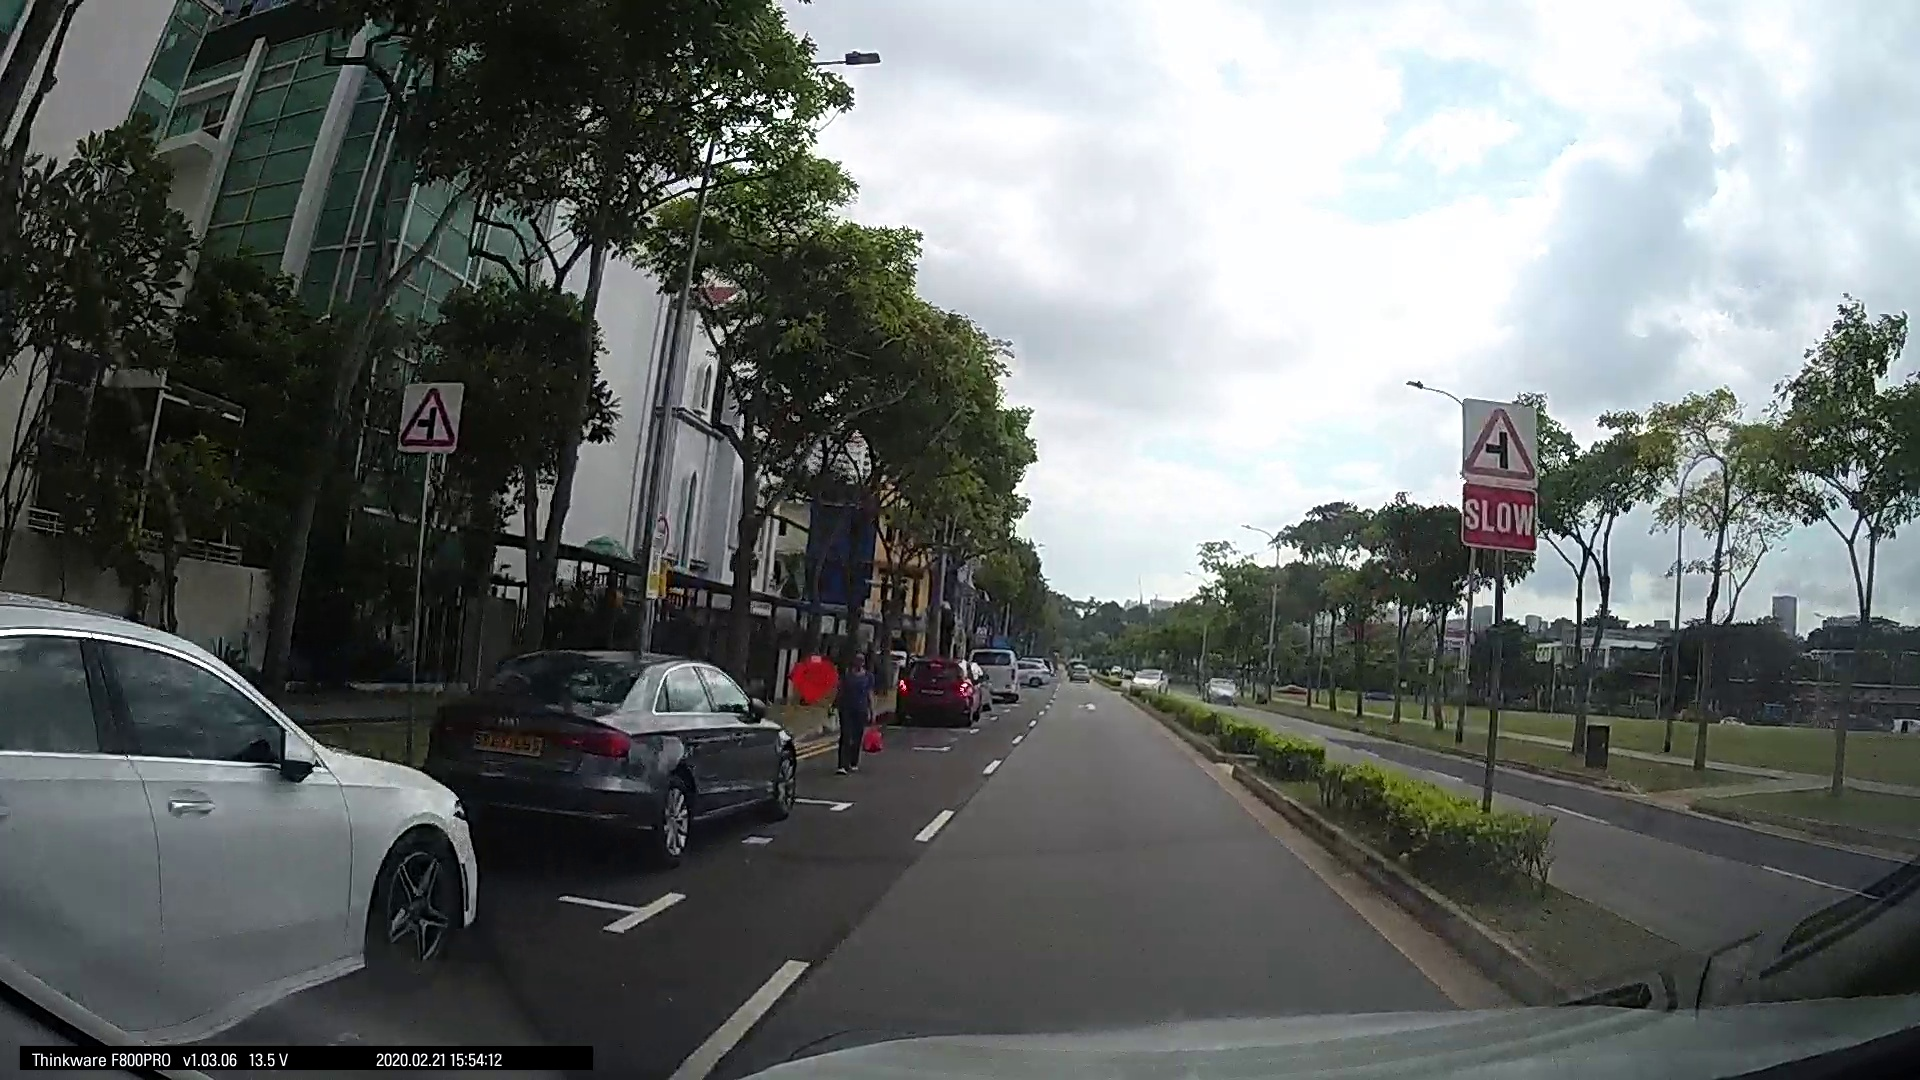Heavy Vehicle: (15, 433, 605, 1017), (1571, 563, 1917, 866), (807, 624, 876, 696)
Light Vehicle: (545, 597, 783, 849), (1251, 665, 1377, 762), (1036, 647, 1092, 698), (938, 655, 992, 702)
